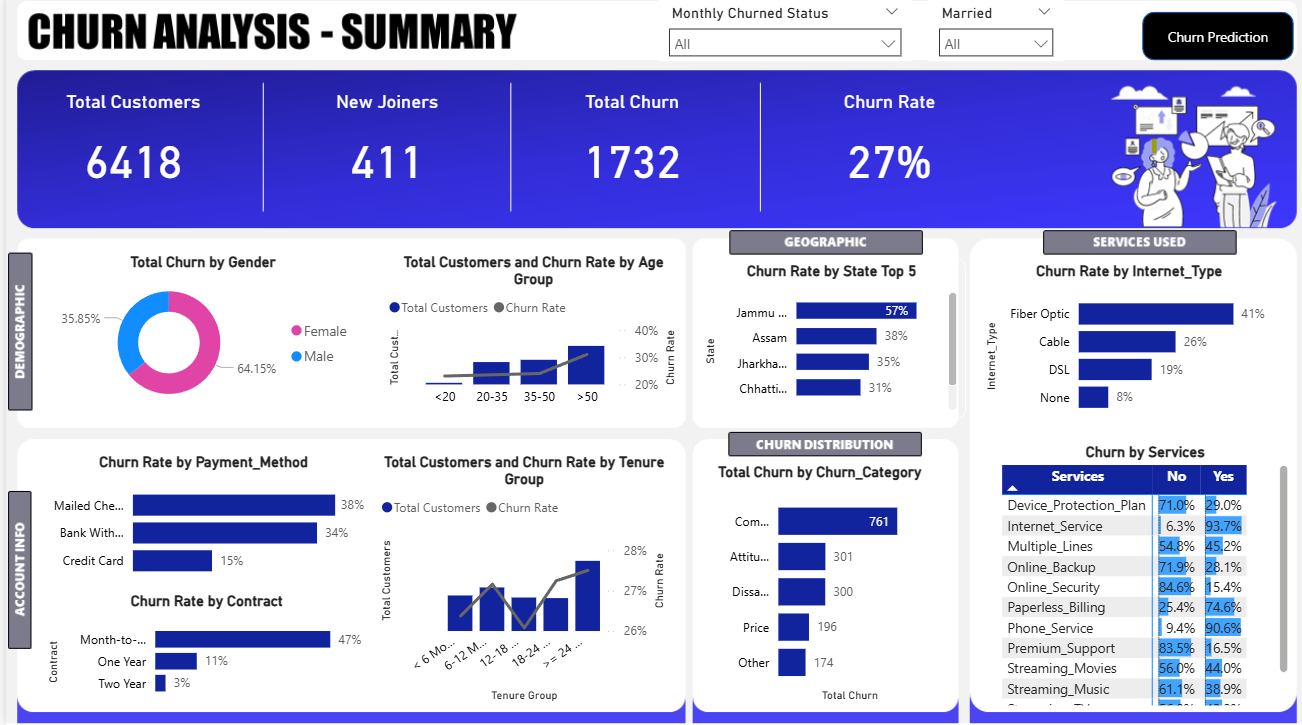

The dashboard page shown, as its layout file describes it:
{"tool":"powerbi","page":{"name":"Summary","canvas":[1280,720],"ordinal":0},"visuals":[{"type":"card","title":"Total Customers","fields":{"Values":["tbl_measures.Total Customers"]},"box":[0,95.7,250.3,110.4],"z":0},{"type":"card","title":"Total Churn","fields":{"Values":["tbl_measures.Total Churn"]},"box":[490.8,95.7,247.9,110.4],"z":1000},{"type":"card","title":"New Joiners","fields":{"Values":["tbl_measures.New Joiners"]},"box":[257.7,95.7,233.1,110.4],"z":2000},{"type":"card","title":"Churn Rate","fields":{"Values":["tbl_measures.Churn Rate"]},"box":[742.3,95.7,250.3,110.4],"z":3000},{"type":"donutChart","fields":{"Category":["prod_Churn.Gender"],"Y":["tbl_measures.Total Churn"]},"box":[31.9,251.5,321.5,166.9],"z":4000},{"type":"lineStackedColumnComboChart","fields":{"Category":["mapping_AgeGrp.Age Group"],"Y":["tbl_measures.Total Customers"],"Y2":["tbl_measures.Churn Rate"]},"box":[366.9,251.5,300.6,166.9],"z":5000},{"type":"clusteredBarChart","fields":{"Category":["prod_Churn.Payment_Method"],"Y":["tbl_measures.Churn Rate"]},"box":[25.8,447.9,335,141.1],"z":6000},{"type":"clusteredBarChart","fields":{"Category":["prod_Churn.Contract"],"Y":["tbl_measures.Churn Rate"]},"box":[31.9,584.1,328.8,120.2],"z":7000},{"type":"lineStackedColumnComboChart","fields":{"Category":["mapping_TenureGrp.Tenure Group"],"Y":["tbl_measures.Total Customers"],"Y2":["tbl_measures.Churn Rate"]},"box":[359.5,447.9,296.9,256.4],"z":8000},{"type":"clusteredBarChart","title":"Churn Rate by State Top 5","fields":{"Category":["prod_Churn.State"],"Y":["tbl_measures.Churn Rate"]},"box":[677.3,260.1,265,158.3],"z":9000},{"type":"clusteredBarChart","fields":{"Category":["prod_Churn.Churn_Category"],"Y":["tbl_measures.Total Churn"]},"box":[688.3,457.7,219.6,246.6],"z":10000},{"type":"clusteredBarChart","fields":{"Category":["prod_Churn.Internet_Type"],"Y":["tbl_measures.Churn Rate"]},"box":[953.4,260.1,296.9,168.1],"z":11000},{"type":"pivotTable","title":"Churn by Services","fields":{"Rows":["prod_Services.Services"],"Columns":["prod_Services.Status"],"Values":["Sum(prod_Services.Churn Status)"]},"box":[973,441.7,290.8,262.6],"z":12000},{"type":"slicer","fields":{"Values":["prod_Services.Monthly Churned Status"]},"box":[640.6,5.8,248.2,60.6],"z":13000},{"type":"slicer","fields":{"Values":["prod_Churn.Married"]},"box":[906.1,5.8,132.7,60.6],"z":14000},{"type":"shape","box":[1115.3,18.8,148.6,47.6],"z":15000}]}

Visuals, with their boxes in screenshot pixels (x1, y1, x2, y2), scaled from the page's 1280x720 canvas onto the 1302x725 screenshot:
"Total Customers" card: 0 96 255 208
"Total Churn" card: 499 96 751 208
"New Joiners" card: 262 96 499 208
"Churn Rate" card: 755 96 1010 208
donutChart - prod_Churn.Gender x tbl_measures.Total Churn: 32 253 359 421
lineStackedColumnComboChart - mapping_AgeGrp.Age Group x tbl_measures.Total Customers: 373 253 679 421
clusteredBarChart - prod_Churn.Payment_Method x tbl_measures.Churn Rate: 26 451 367 593
clusteredBarChart - prod_Churn.Contract x tbl_measures.Churn Rate: 32 588 367 709
lineStackedColumnComboChart - mapping_TenureGrp.Tenure Group x tbl_measures.Total Customers: 366 451 668 709
"Churn Rate by State Top 5" clusteredBarChart: 689 262 958 421
clusteredBarChart - prod_Churn.Churn_Category x tbl_measures.Total Churn: 700 461 924 709
clusteredBarChart - prod_Churn.Internet_Type x tbl_measures.Churn Rate: 970 262 1272 431
"Churn by Services" pivotTable: 990 445 1286 709
slicer - prod_Services.Monthly Churned Status: 652 6 904 67
slicer - prod_Churn.Married: 922 6 1057 67
shape: 1134 19 1286 67
